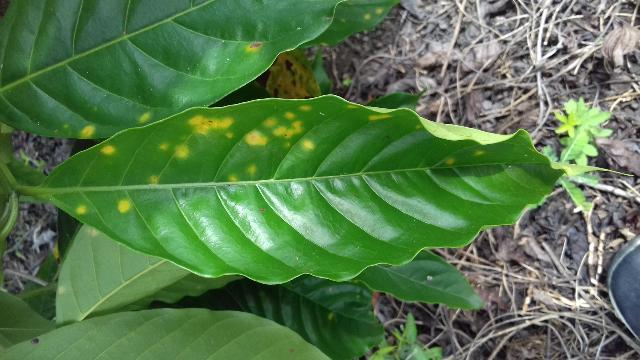rust_level_2: (39, 97, 632, 285)
